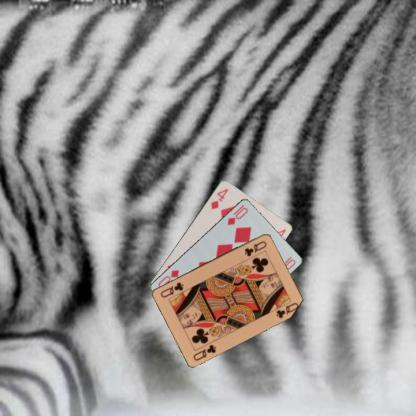10d: (225, 202, 249, 226)
4d: (208, 186, 229, 210)
Qc: (191, 342, 217, 362), (242, 238, 268, 257)
